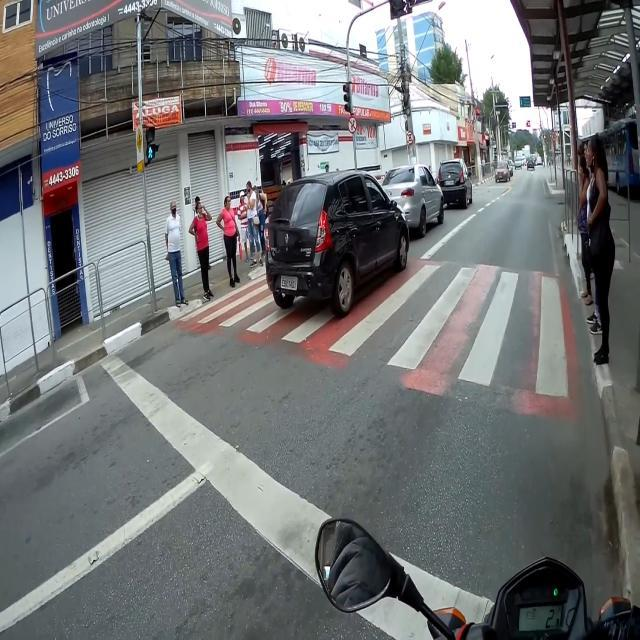Placa_mercosul_carro: (280, 276, 298, 290), (445, 179, 454, 186)
